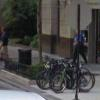Bicycle: (40, 54, 95, 94)
